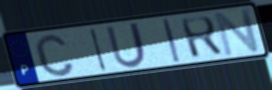C: (32, 32, 77, 78)
I: (161, 18, 183, 64), (88, 26, 109, 73)
N: (212, 7, 262, 58)
R: (178, 15, 225, 60)
U: (104, 20, 148, 70)
